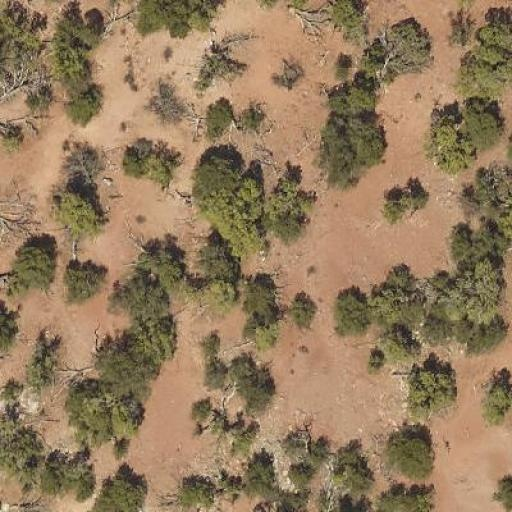tree-top: (316, 108, 386, 182), (436, 252, 501, 331), (41, 12, 100, 86), (128, 99, 193, 165), (217, 177, 268, 259), (329, 278, 403, 330), (376, 15, 440, 71), (403, 361, 460, 422), (53, 183, 112, 241), (62, 372, 122, 429), (112, 263, 170, 320), (141, 86, 200, 142), (1, 425, 51, 491), (366, 272, 426, 324), (426, 102, 474, 164), (94, 346, 150, 398), (30, 451, 90, 499), (226, 358, 280, 411), (120, 139, 180, 185), (384, 424, 436, 476), (326, 441, 375, 496), (191, 147, 246, 196), (136, 0, 212, 35), (128, 314, 181, 364), (57, 138, 107, 190), (11, 235, 61, 286), (457, 98, 510, 146), (96, 467, 152, 512), (268, 189, 312, 244), (457, 54, 512, 98), (464, 164, 512, 214), (189, 237, 238, 285), (0, 4, 41, 61), (62, 257, 108, 303), (381, 181, 430, 221), (102, 398, 144, 442), (330, 286, 371, 331), (240, 273, 280, 318), (200, 272, 245, 312), (374, 482, 432, 512), (175, 471, 217, 511), (477, 7, 512, 54), (376, 325, 418, 364), (336, 78, 379, 116), (67, 84, 107, 124), (203, 42, 243, 81), (482, 376, 512, 425), (200, 335, 227, 389), (21, 358, 57, 395), (242, 451, 276, 490), (476, 217, 510, 256), (471, 316, 509, 350), (326, 0, 365, 33), (286, 291, 319, 327), (206, 96, 238, 132), (228, 420, 259, 455), (234, 100, 265, 134), (248, 319, 278, 353), (420, 314, 450, 348), (24, 82, 54, 116), (448, 225, 476, 261), (0, 306, 22, 351), (1, 122, 27, 156), (172, 273, 200, 302), (492, 472, 512, 508), (291, 457, 315, 485), (0, 376, 19, 402)
